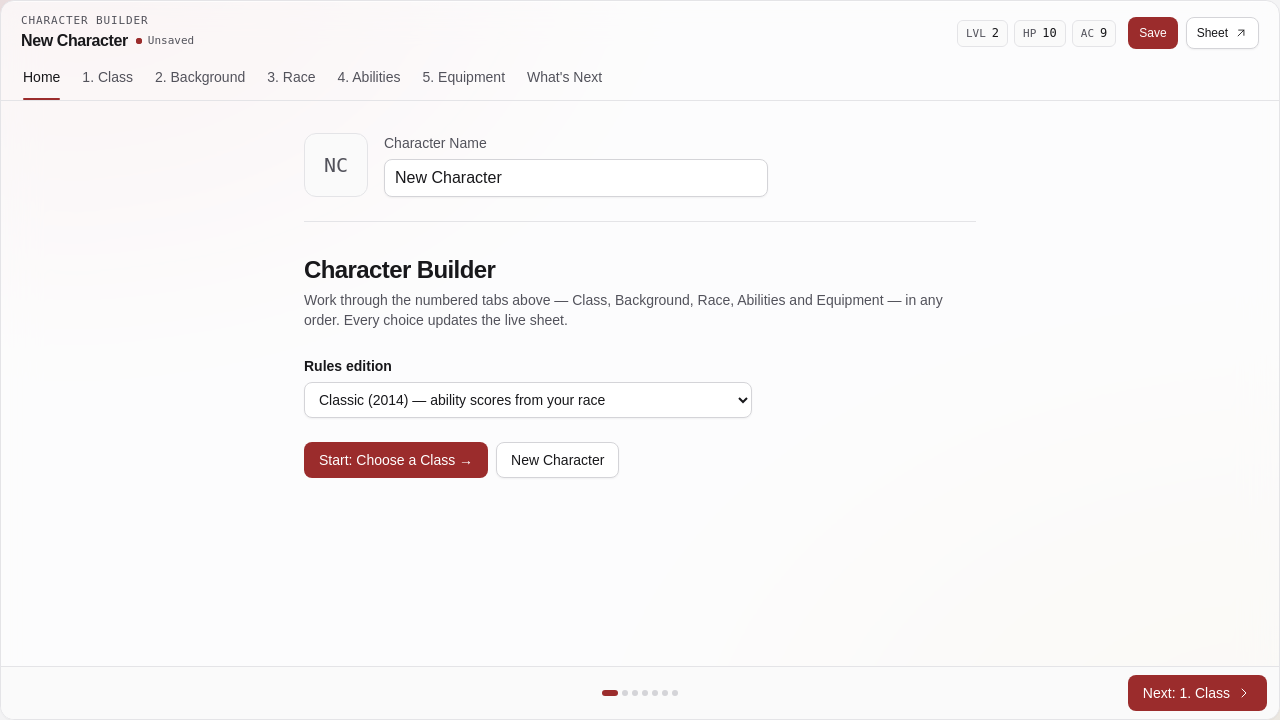
Test: BuildView (DDB-style pages) › renders Background, Species, Abilities, Equipment and What's Next
Click the button "2. Background": [200, 80] box [145, 59, 255, 100]
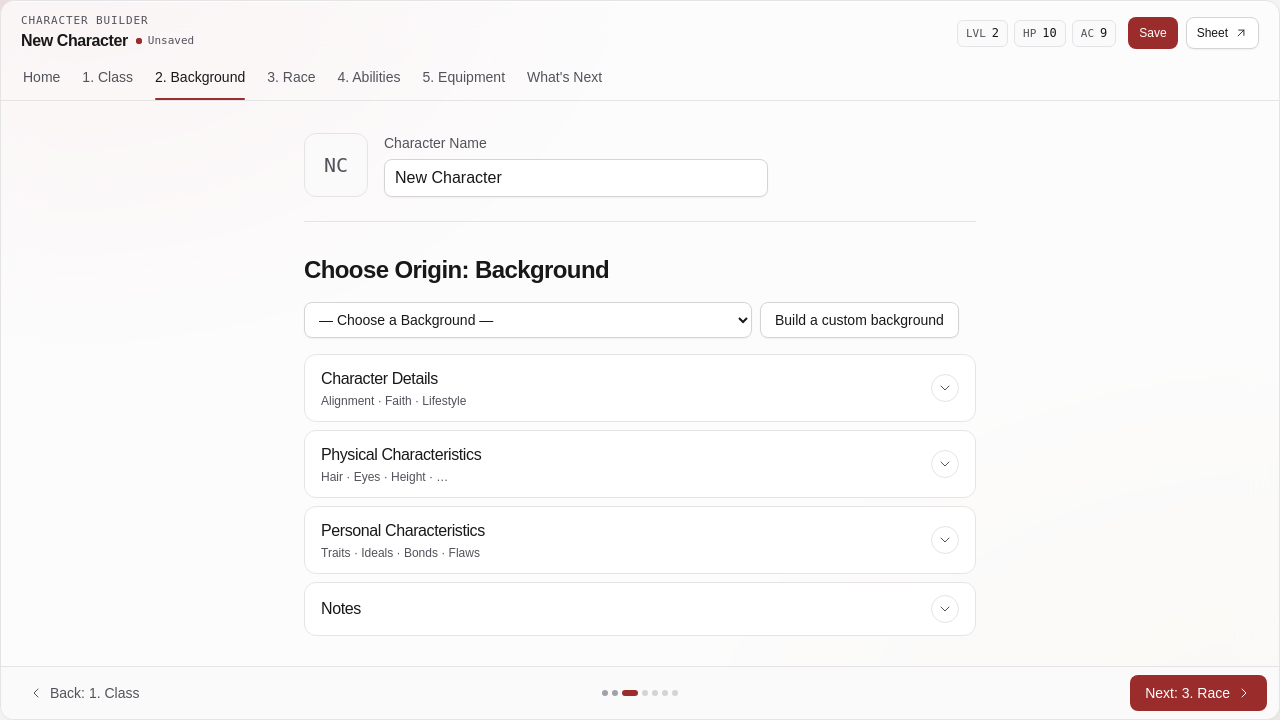
Expected: the heading "Choose Origin: Background" is shown, [304, 256, 609, 283]
Expected: the text "Character Details" is shown, [321, 370, 438, 387]
Click the button "3. Race": [291, 80] box [257, 59, 326, 100]
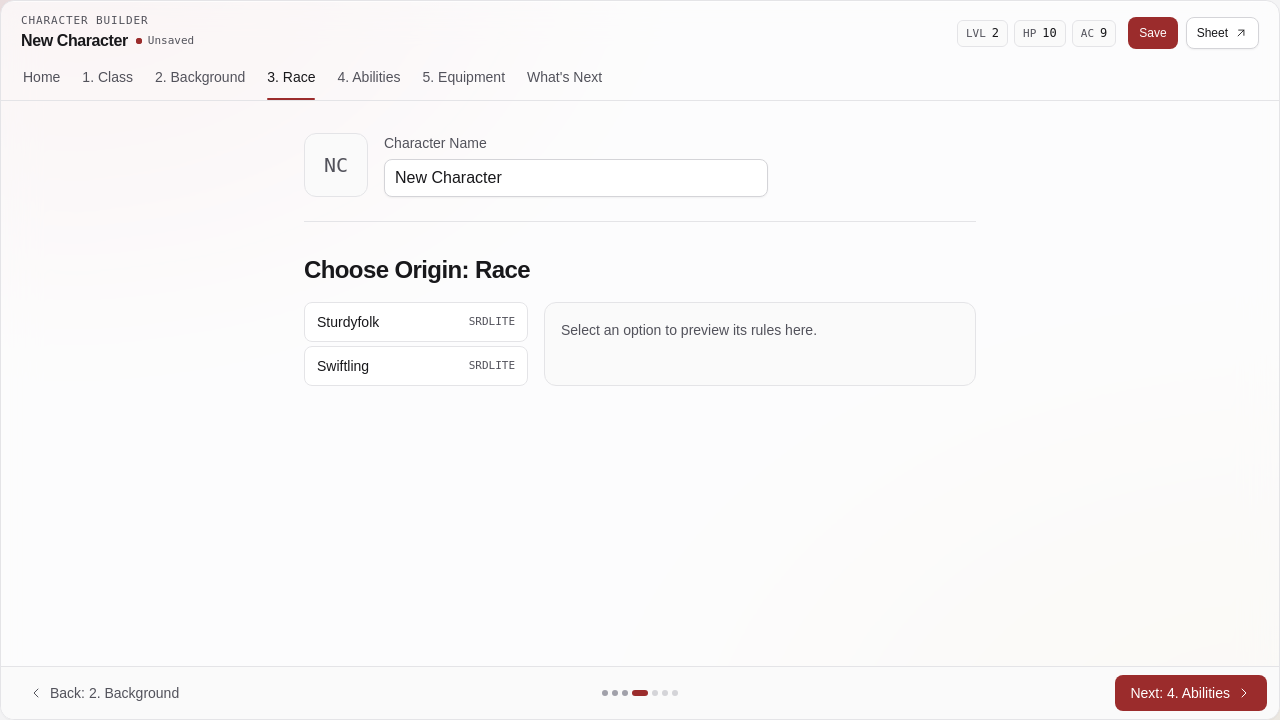
Expected: the heading "Choose Origin: Race" is shown, [304, 256, 530, 283]
Click the button "4. Abilities": [369, 80] box [328, 59, 410, 100]
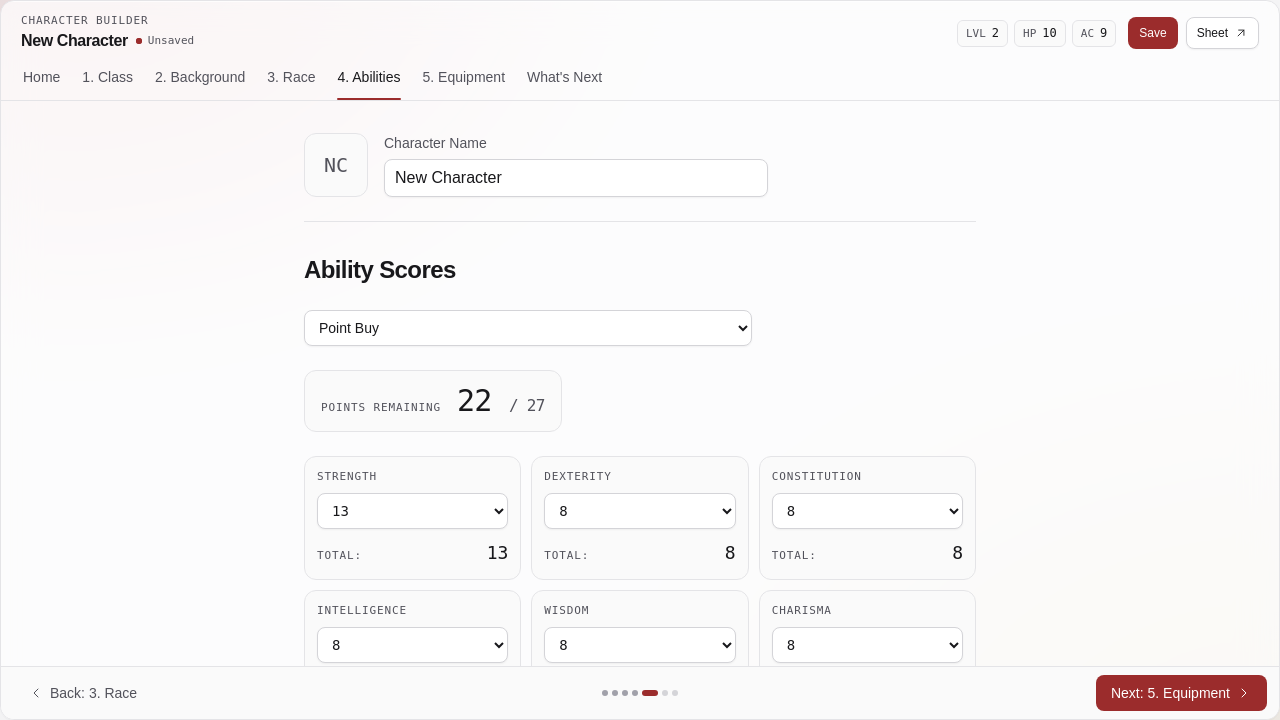
Expected: the text "Points Remaining" is shown, [321, 400, 441, 416]
Click the button "5. Equipment": [464, 80] box [412, 59, 515, 100]
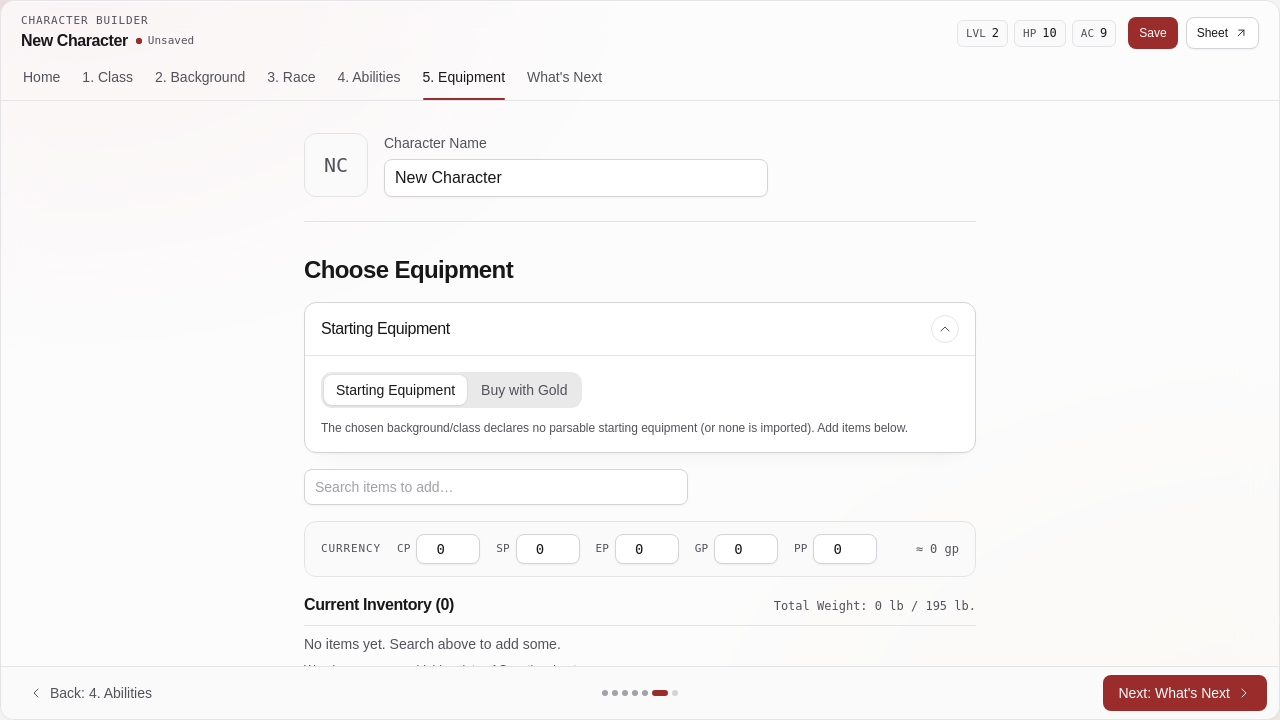
Expected: the heading "Choose Equipment" is shown, [304, 256, 513, 283]
Expected: the heading "Current Inventory (0)" is shown, [304, 593, 454, 617]
Expected: the text "Total Weight: 0 lb / 195 lb." is shown, [774, 598, 976, 614]
Click the button "What's Next": [564, 80] box [517, 59, 612, 100]
(page scrolled)
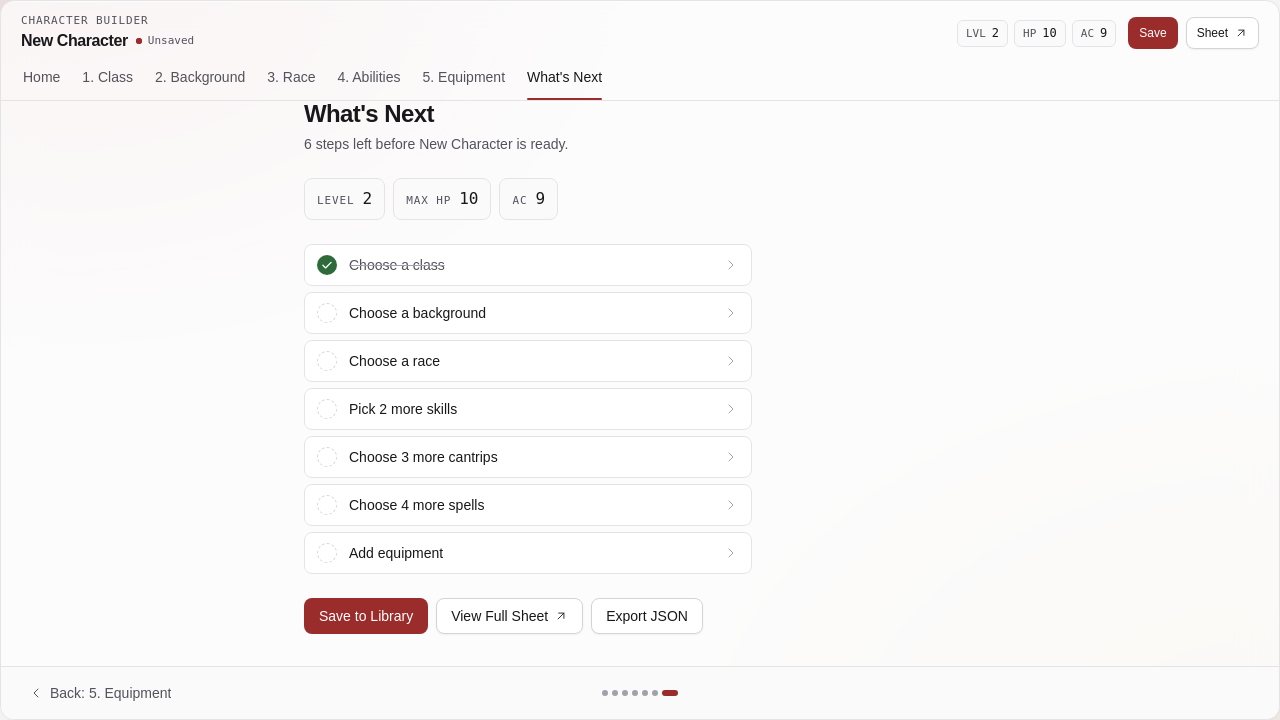
Expected: the heading "What's Next" is shown, [304, 101, 434, 127]
Expected: the button "Save to Library" is shown, [304, 598, 428, 634]
